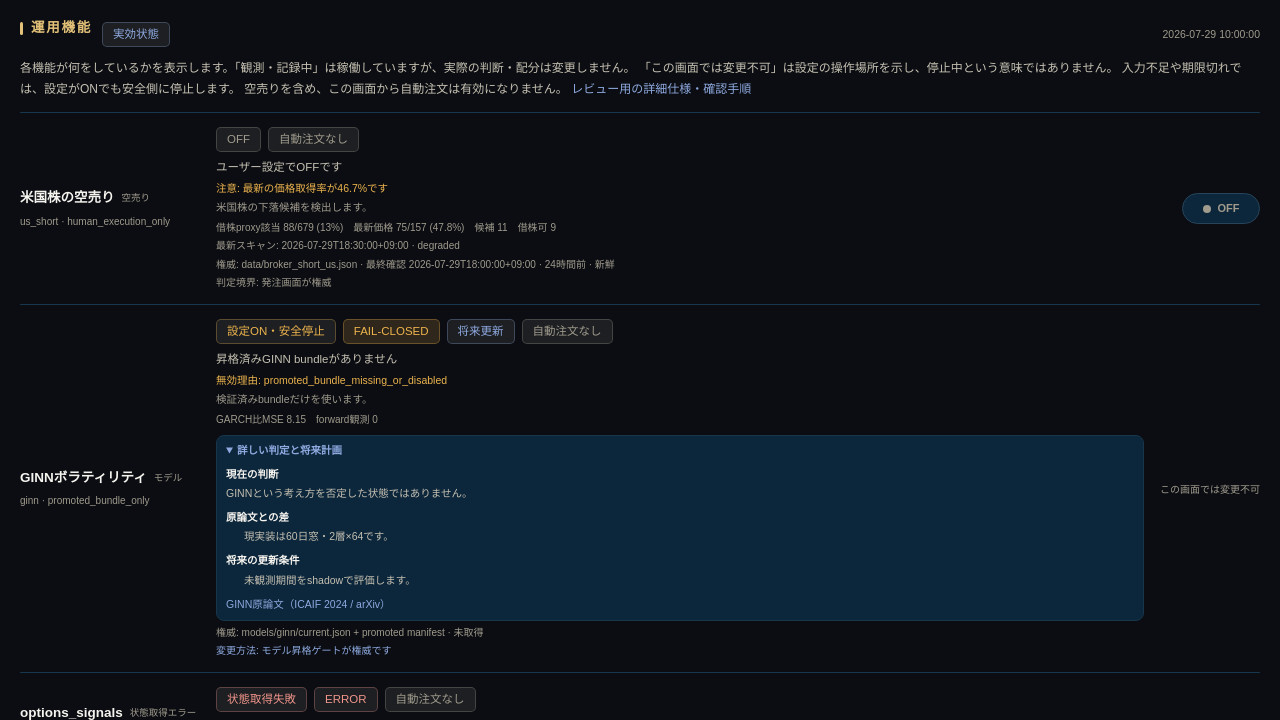
Test: FeatureControls › toggles a mutable feature through the authenticated write helper
This screenshot has width=1280, height=720.
Click the switch named "米国株の空売りをONにする": point(1221, 209) [1182,193,1260,224]
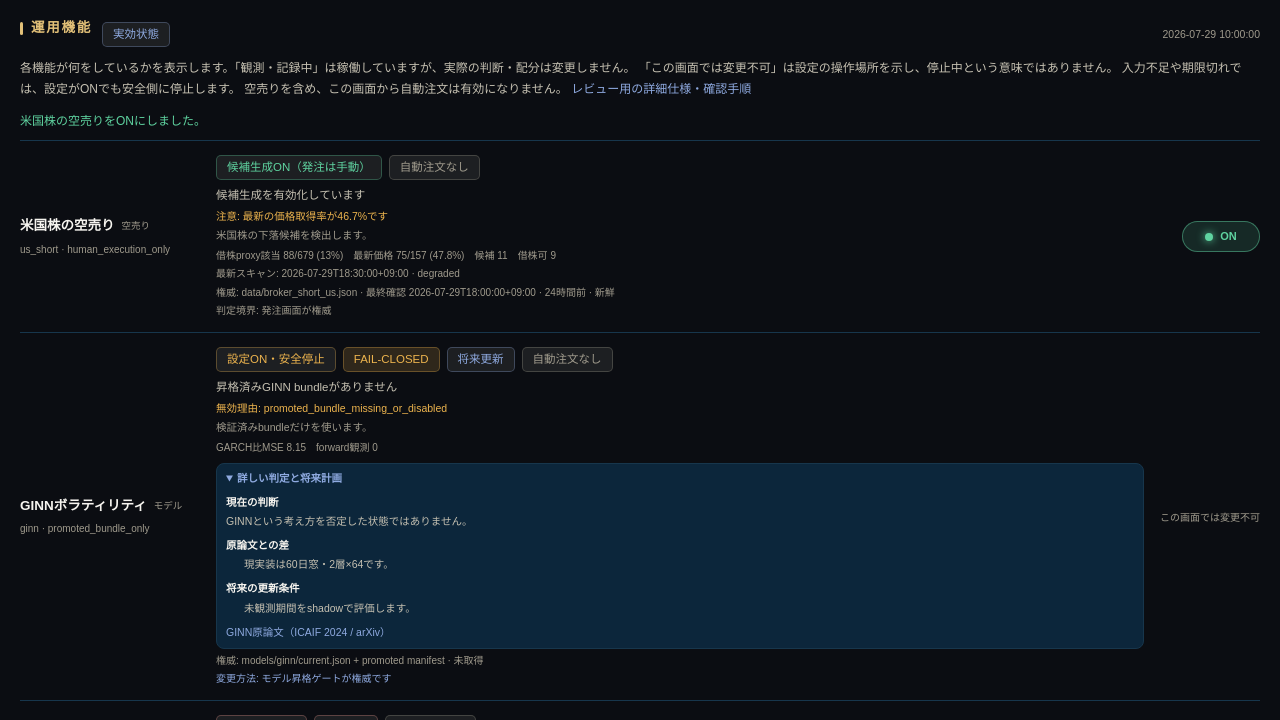
Expected: the text "米国株の空売りをONにしました。" is shown, [20,114,206,128]
Expected: the text "候補生成ON（発注は手動）" is shown, [216,155,382,180]
